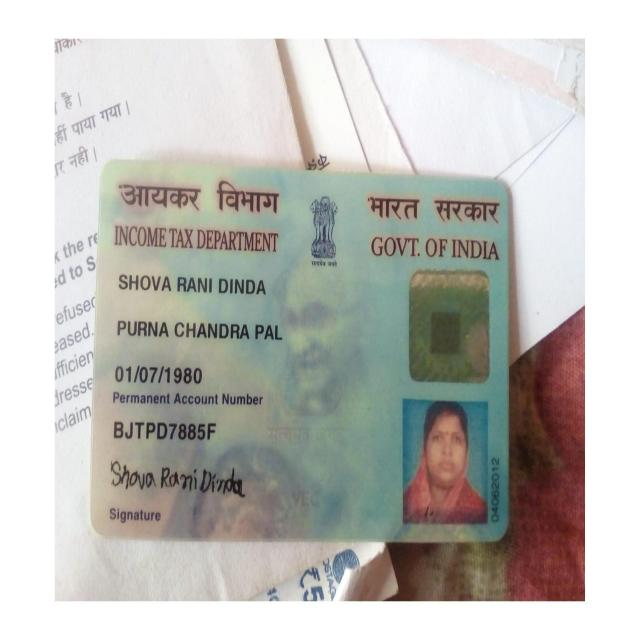pan_card: (96, 168, 506, 536)
